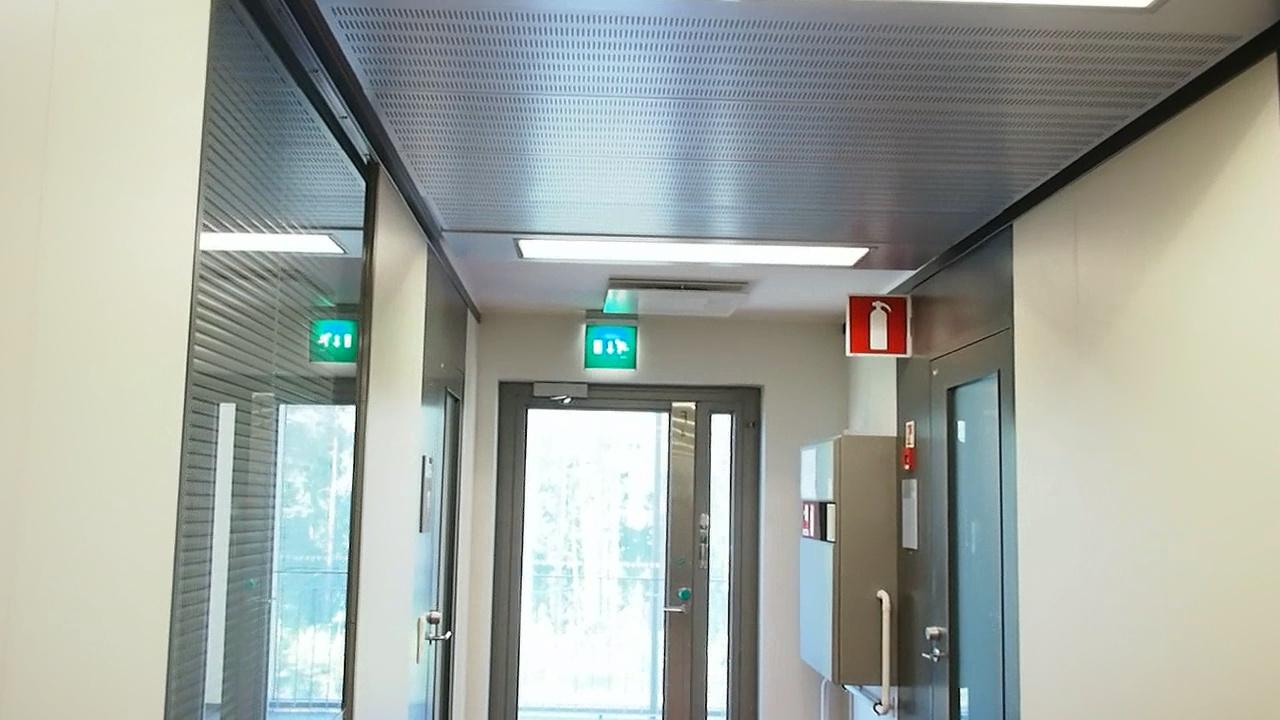exit: (582, 323, 641, 374)
fireextinguisher: (854, 293, 912, 357)
